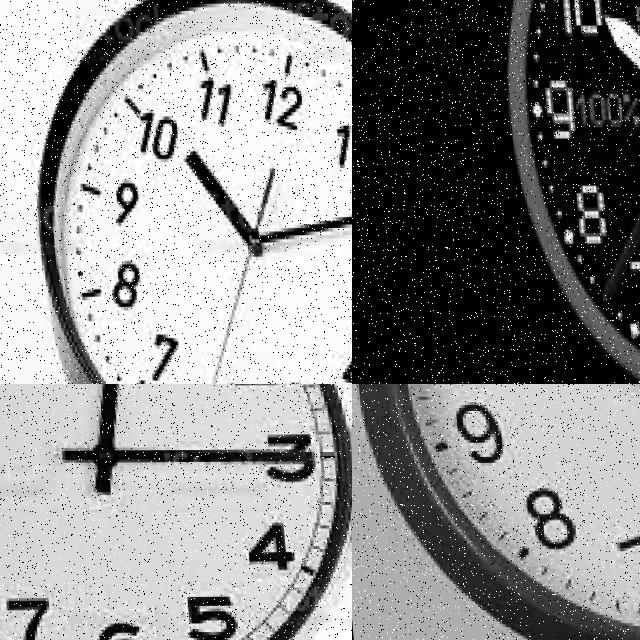Clocks-images: (16, 1, 353, 385), (1, 385, 353, 640), (353, 385, 640, 640), (482, 1, 640, 385)
